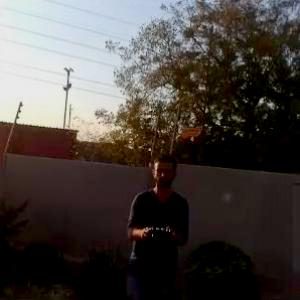follow: (120, 146, 193, 299)
